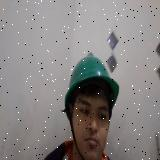Helmet: (64, 52, 120, 114)
